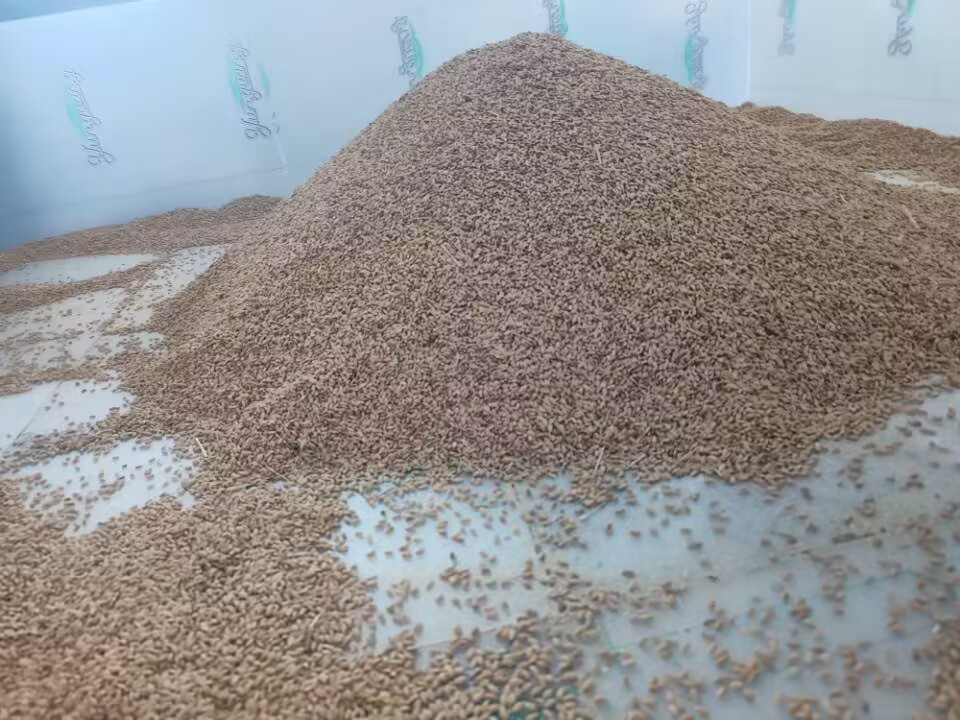Grain: (139, 15, 919, 523)
